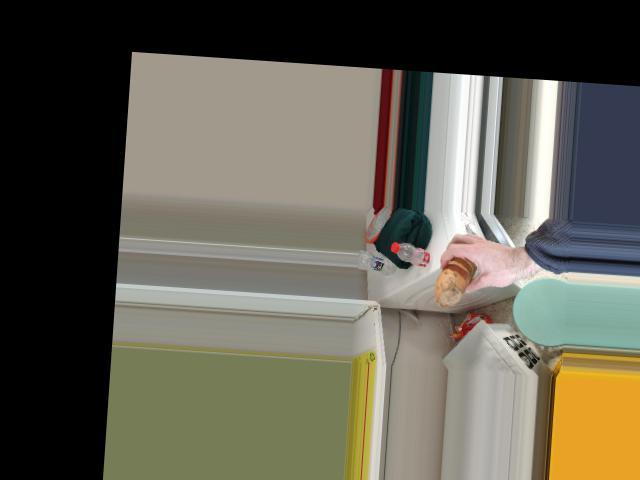sweet_potato: (434, 256, 476, 299)
